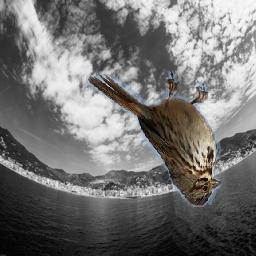Sparrow: (86, 71, 222, 207)
